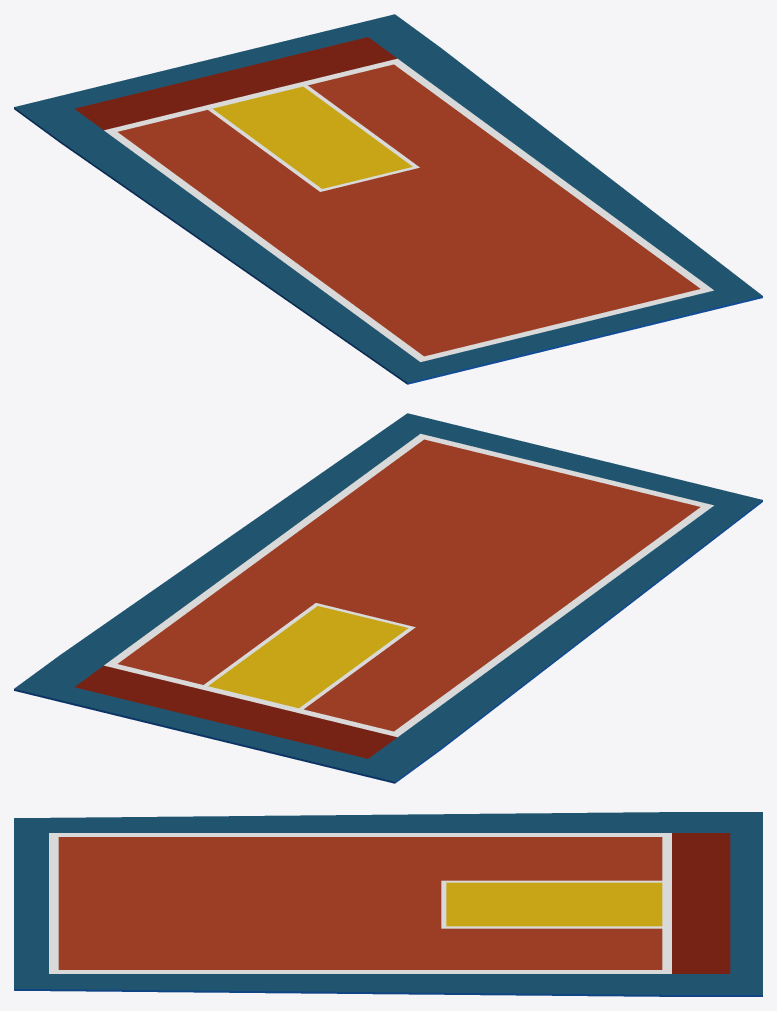
The model's file is Lapangan.fbx.
The picture shows the model from 3 angles, top to bottom: view 1: azimuth 30°, elevation 25°; view 2: azimuth 150°, elevation 25°; view 3: azimuth 270°, elevation 25°; orthographic projection.
Visible parts, largest first — view 1: Lapangan; view 2: Lapangan; view 3: Lapangan.
Boxes of the visible parts, bbox=[...] form: Lapangan: bbox=[14, 14, 762, 384]; Lapangan: bbox=[14, 413, 762, 783]; Lapangan: bbox=[14, 812, 762, 996].
Bounding box in the file's own units: 3889 × 20 × 6731.
